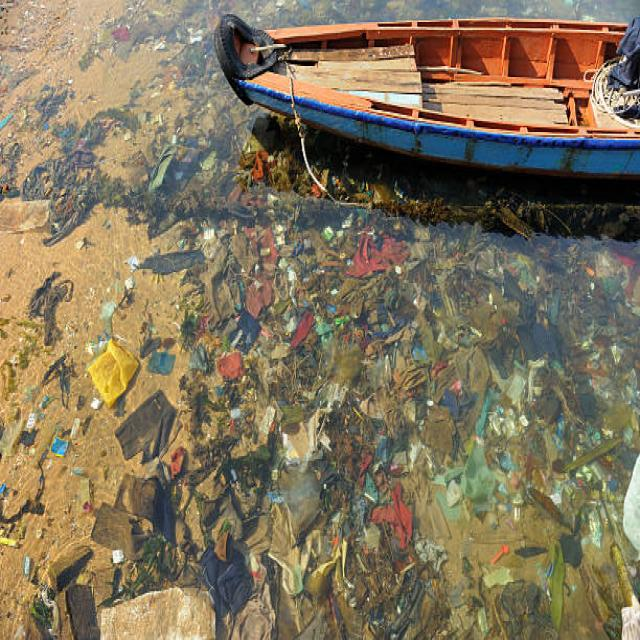garbage: (202, 218, 430, 562), (443, 347, 535, 525), (457, 226, 578, 322), (18, 138, 116, 233), (83, 330, 148, 413), (605, 444, 640, 570), (238, 142, 296, 202)
